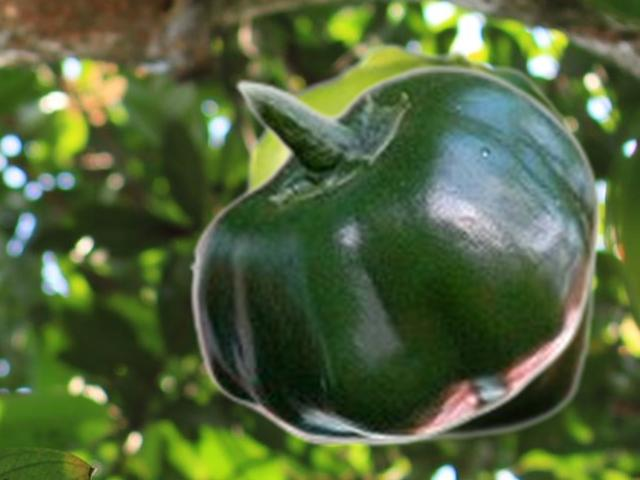bell_pepper: (187, 63, 601, 445), (244, 41, 599, 447)
